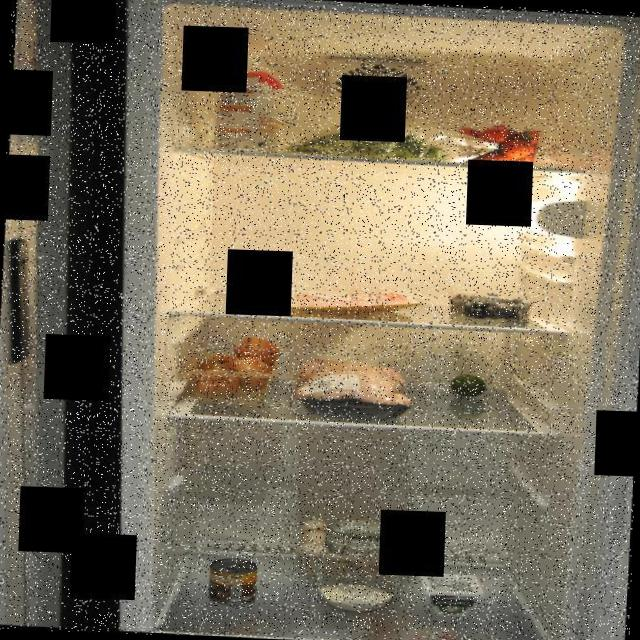Carne cerdo: (281, 284, 424, 315)
Carne pollo: (286, 353, 419, 424)
Cebolla: (185, 332, 282, 404)
Champiñones: (292, 516, 418, 578)
Queso: (416, 570, 486, 618)
blueberries: (442, 286, 538, 322)
corn: (206, 555, 259, 606)
flour: (311, 514, 411, 616)
green_beans: (284, 116, 453, 162)
strawberries: (452, 117, 546, 167)
sugar: (213, 67, 286, 152)
